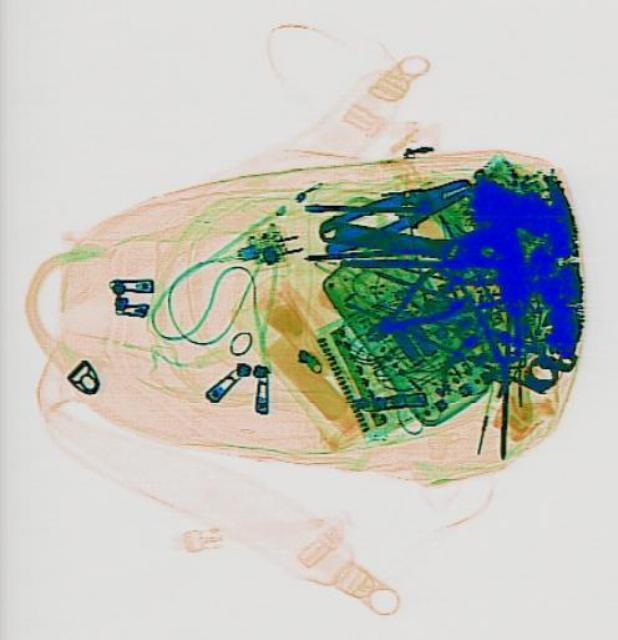Pliers: (311, 162, 478, 256), (347, 258, 468, 356)
Wrench: (311, 204, 508, 282)
